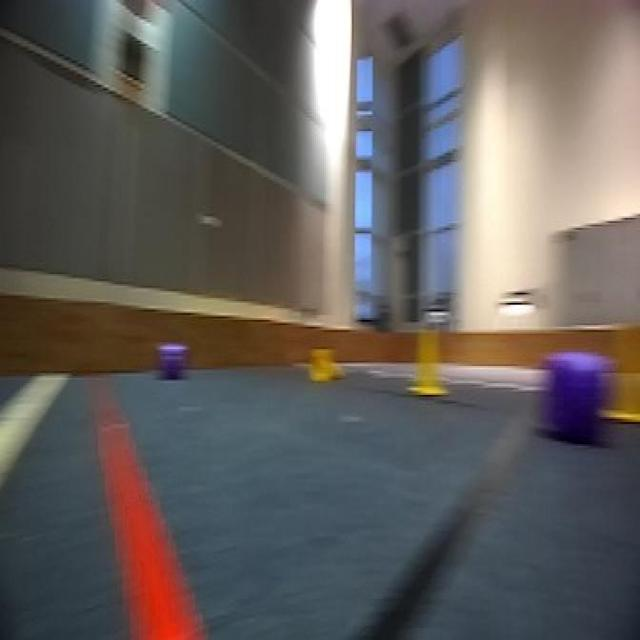frc_cone: (601, 328, 640, 424), (408, 322, 450, 398), (304, 340, 350, 390)
frc_cube: (540, 350, 607, 440), (160, 340, 184, 383)
